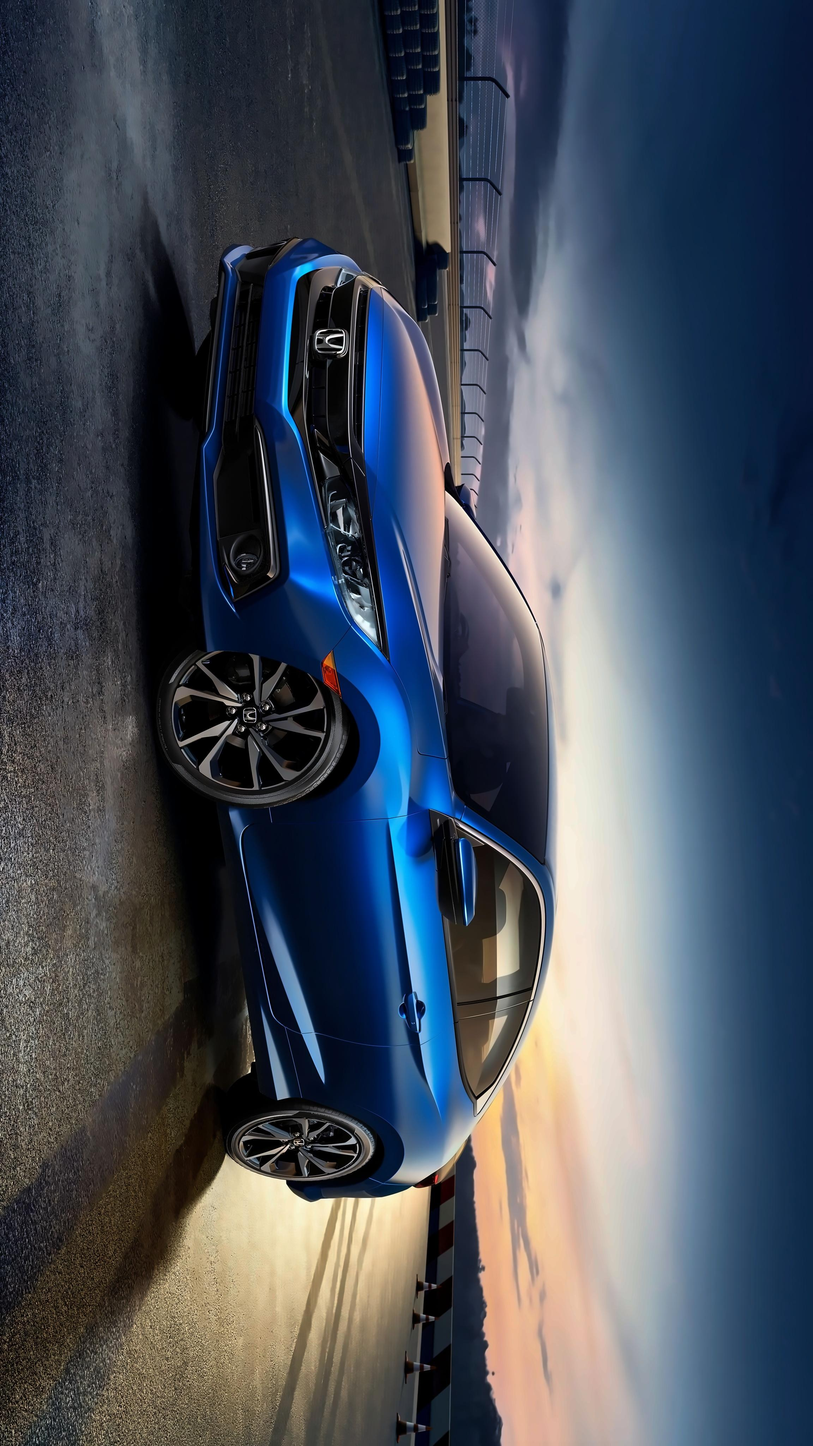Car hood: (358, 276, 455, 764)
Fender - -F-L-: (235, 621, 482, 821)
Fender - -R-L-: (256, 1034, 450, 1191)
Front bumper: (191, 230, 343, 668)
Headlight - -L-: (295, 420, 396, 670)
Passenger-s door - -F-L-: (237, 817, 556, 1049)
Rear bumper: (275, 1162, 408, 1220)
Rear light - -R-: (408, 1132, 479, 1213)
Side bumper - -L-: (214, 795, 309, 1110)
Side mirror - -L-: (420, 816, 485, 942)
